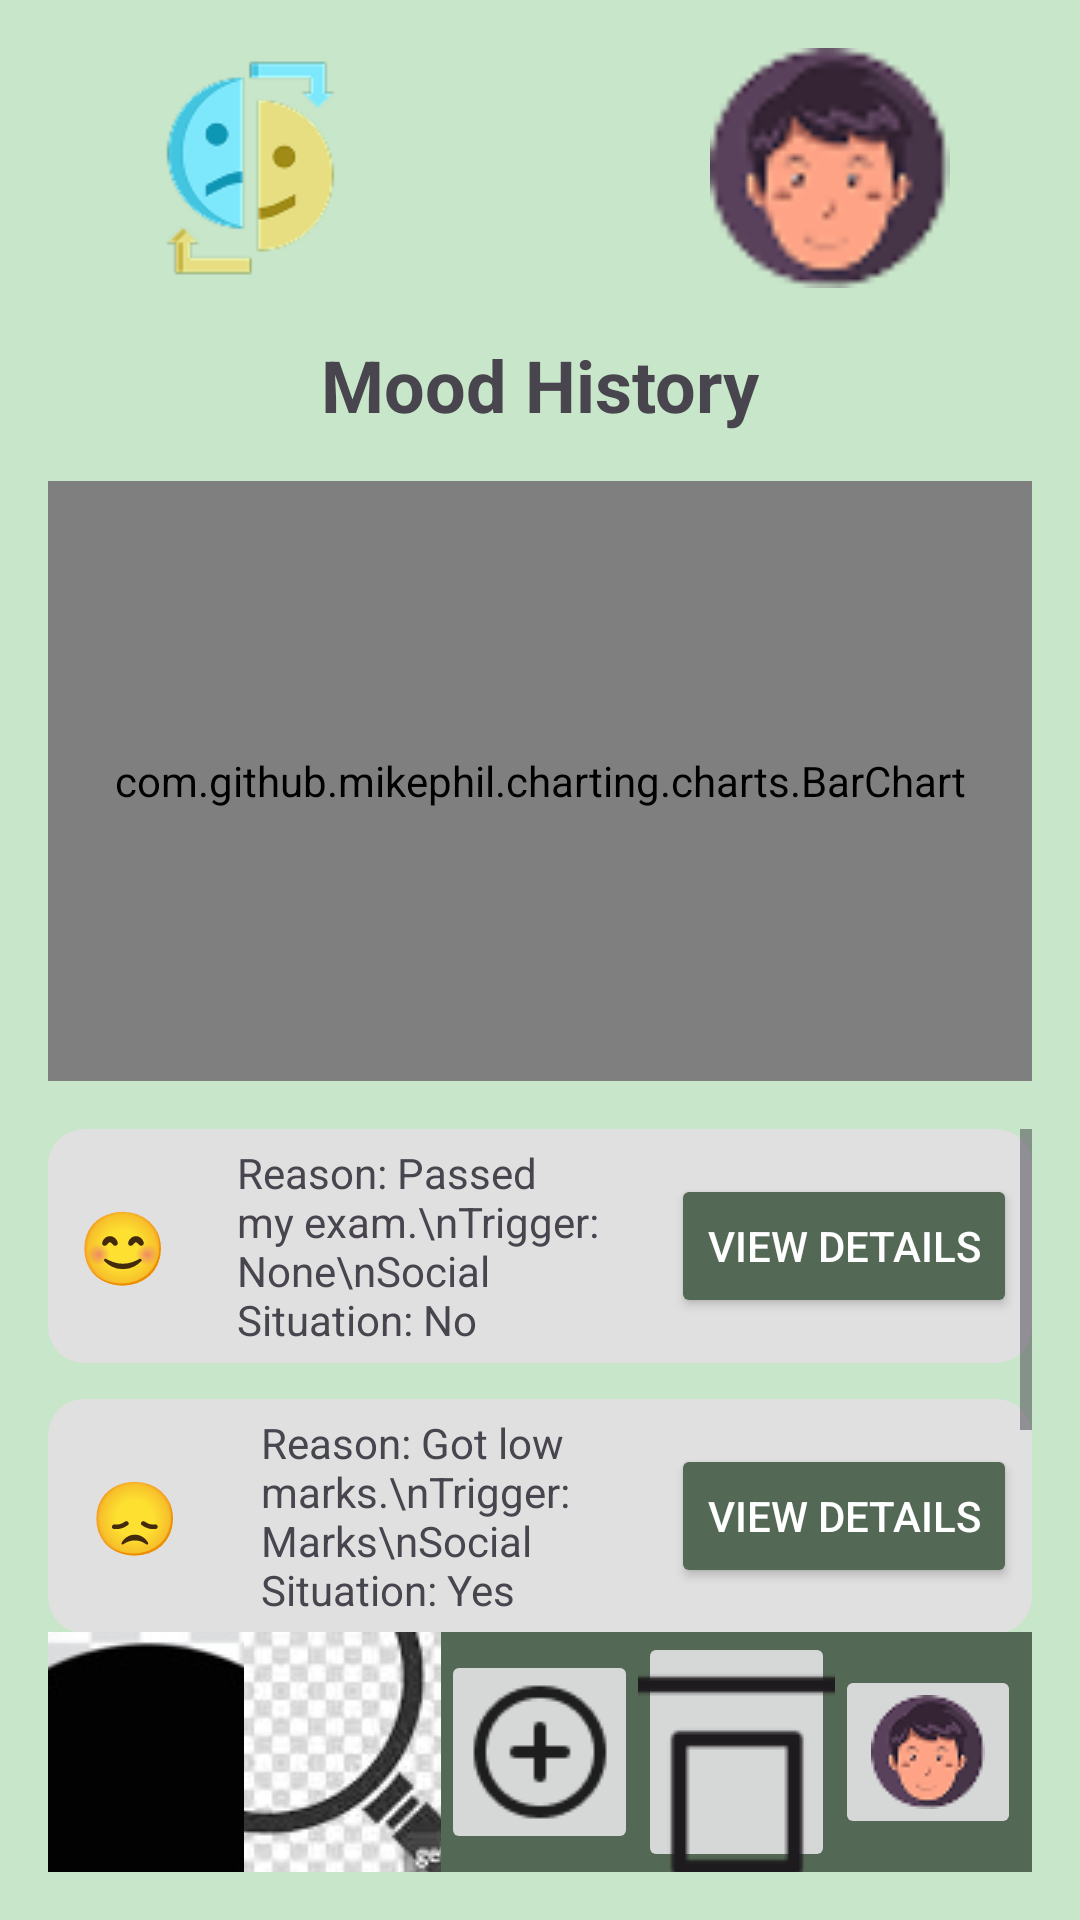

Screen size 1080w x 1920h. Icon name, then its box in pixels as (x1, y1, x2, y2):
plus circle: (453, 1668, 626, 1836)
